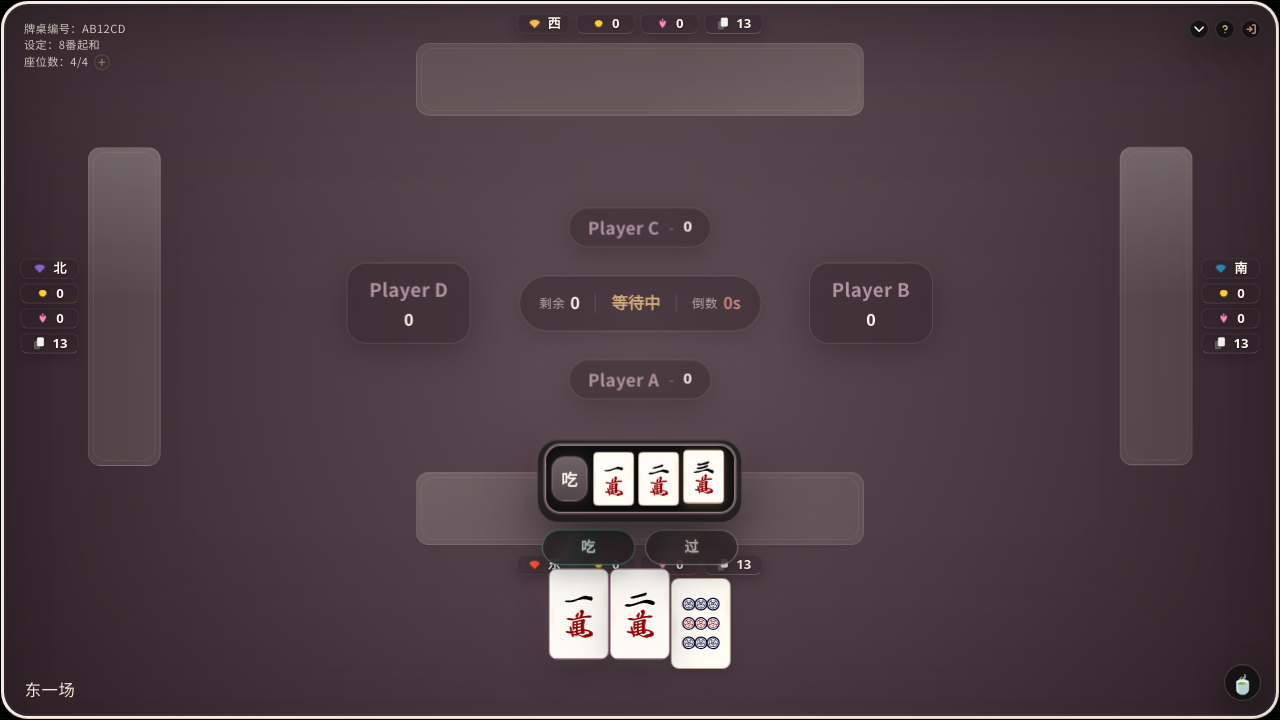
App › clears preselected claim tiles after passing
Expected: the 2nd button "吃" is shown, [542,530,635,564]
Click the button "过".
click(692, 547)  # box [645,530,738,564]
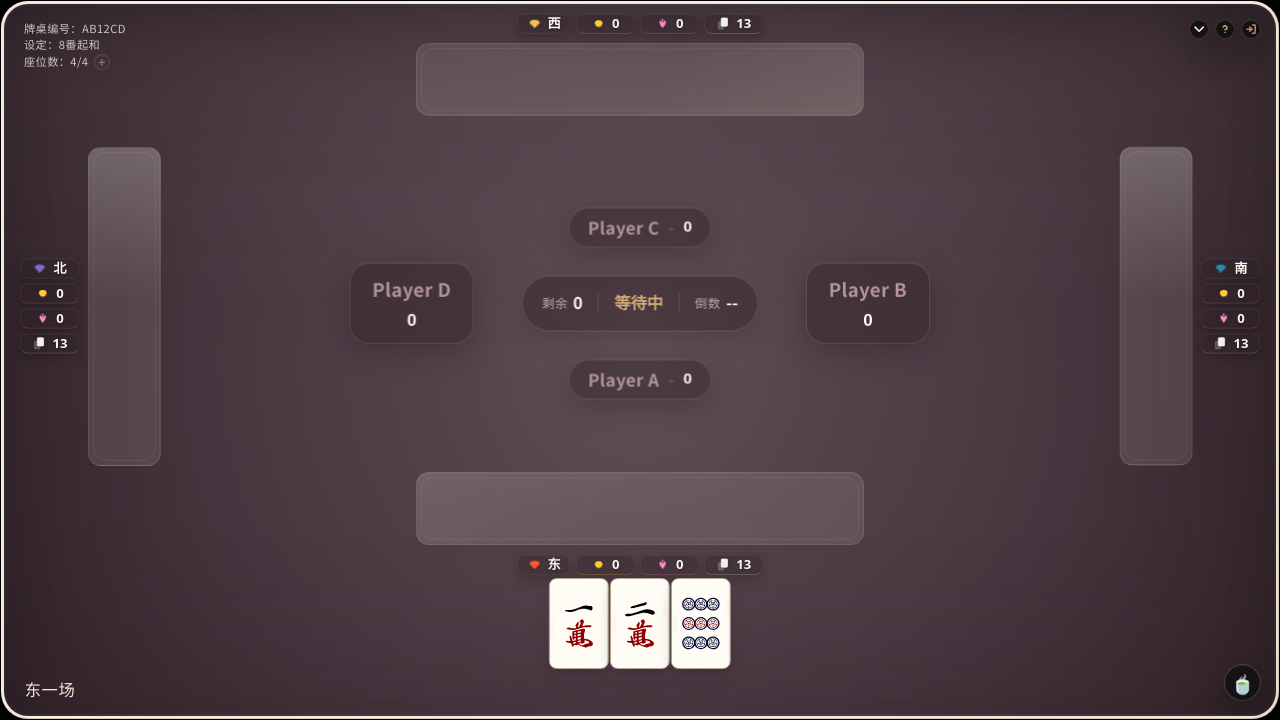
Expected: the button "过" is gone
Expected: the button "吃" is gone
